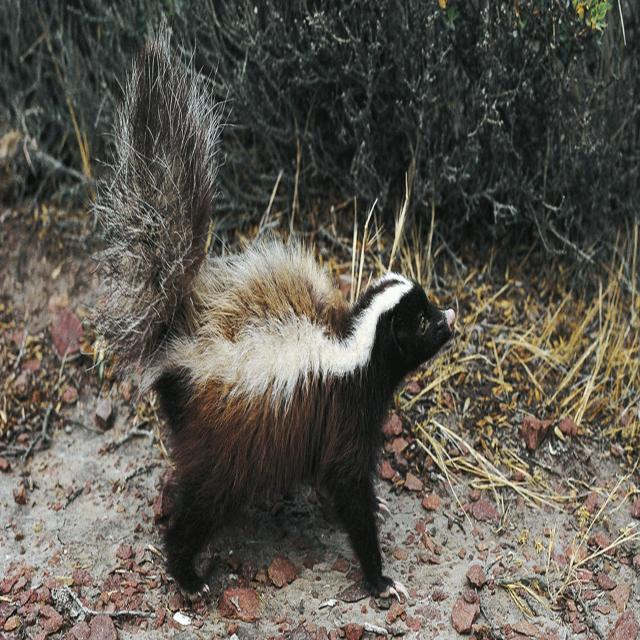Skunk: (93, 30, 463, 610)
